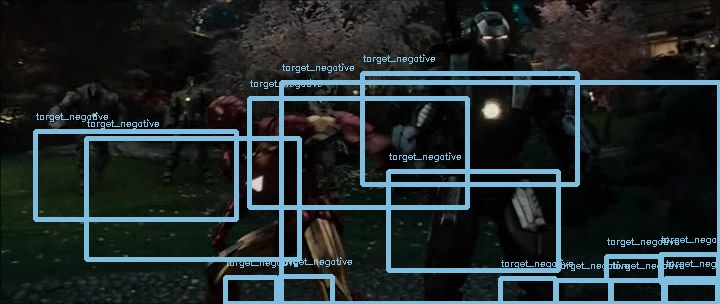person: (201, 92, 248, 145), (200, 92, 247, 145), (202, 92, 249, 145), (201, 91, 248, 144), (201, 93, 248, 146)
target_negative: (4, 18, 685, 277), (30, 61, 686, 199), (157, 227, 529, 240), (187, 141, 318, 161), (371, 117, 394, 154), (596, 302, 669, 303)
